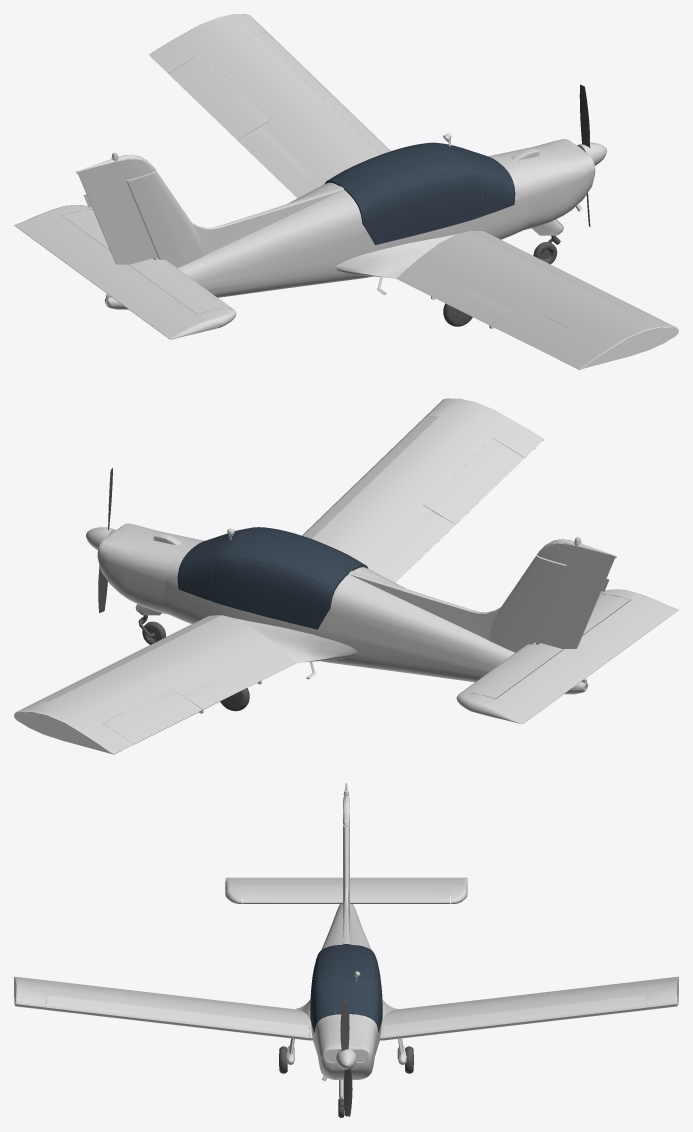
File: rallye.glb
3 renders of one model, top to bottom at view 1: azimuth 30°, elevation 25°; view 2: azimuth 150°, elevation 25°; view 3: azimuth 270°, elevation 25°, orthographic. The views are drawn at different scales.
Parts seen in each view (by area): view 1: body, glass, trim, spin; view 2: body, glass, trim; view 3: body, glass, spin, trim.
Part boxes in pixels (box(x1,y1,x2,y2)): body: box(14, 14, 678, 369); glass: box(325, 142, 515, 244); trim: box(443, 235, 560, 326); spin: box(579, 84, 590, 227); body: box(14, 398, 678, 754); glass: box(177, 527, 368, 629); trim: box(138, 615, 249, 711); body: box(14, 783, 678, 1100); glass: box(310, 944, 382, 1032); spin: box(340, 1001, 352, 1116); trim: box(279, 1046, 413, 1117).
Bounding box in the file's own units: 1.56 × 0.6123 × 2.2.
